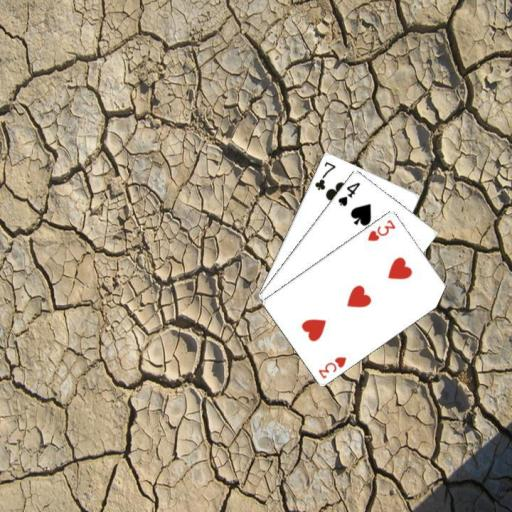3H: (364, 216, 397, 243), (315, 353, 348, 380)
4S: (335, 179, 361, 208)
7C: (312, 158, 337, 191)
